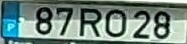2: (132, 9, 151, 40)
7: (54, 6, 74, 37)
8: (34, 5, 53, 36), (152, 10, 171, 39)
O: (103, 8, 127, 38)
R: (78, 7, 103, 38)
